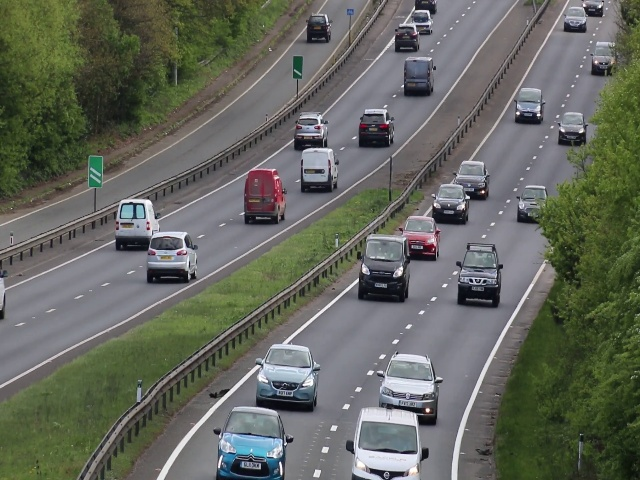car: (346, 414, 430, 480), (213, 406, 285, 480), (378, 349, 440, 417), (254, 347, 318, 405), (457, 242, 501, 309), (363, 235, 409, 298), (243, 168, 288, 226), (113, 194, 161, 248), (148, 232, 198, 283), (299, 145, 340, 193), (401, 213, 440, 262), (431, 181, 470, 224), (356, 108, 395, 148), (403, 54, 437, 99), (455, 158, 489, 200), (295, 113, 330, 150), (513, 84, 543, 122), (558, 111, 586, 146), (516, 183, 541, 222), (590, 40, 615, 75), (393, 23, 422, 52), (305, 15, 333, 44), (563, 9, 588, 33), (413, 11, 433, 32)
